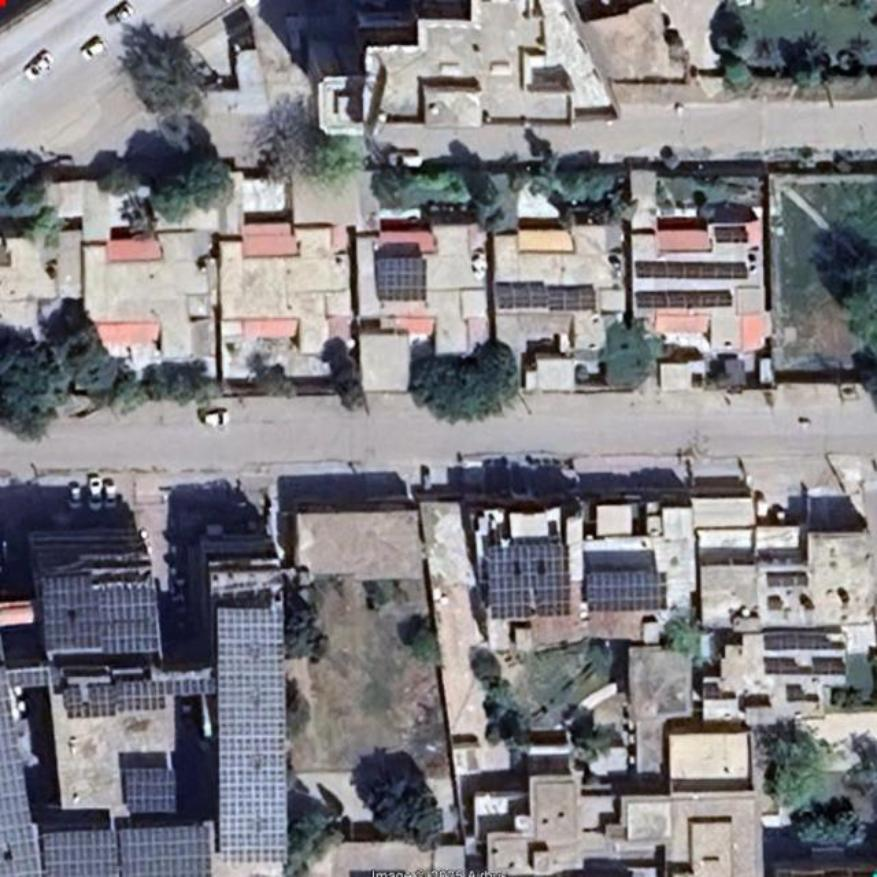Solarpanel: (216, 602, 289, 864), (38, 574, 158, 657), (0, 829, 210, 876), (494, 547, 569, 621), (60, 673, 212, 707), (0, 666, 29, 842), (589, 571, 664, 614), (494, 284, 598, 315), (126, 769, 172, 815), (379, 259, 428, 302), (640, 262, 745, 277), (765, 657, 846, 675), (764, 634, 845, 650), (636, 292, 735, 305), (9, 671, 51, 691), (716, 230, 746, 241)
